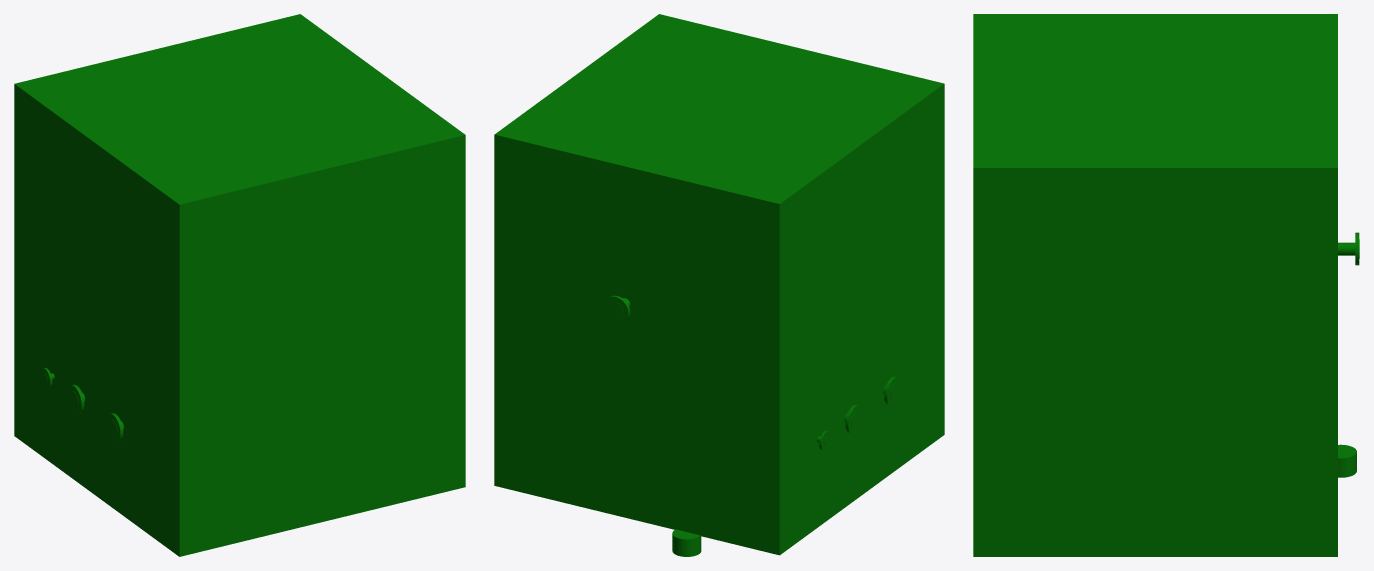
File: Image-1711348148121-2280942088352_53-CZ50.fbx
3 renders of one model, left to right at view 1: azimuth 30°, elevation 25°; view 2: azimuth 150°, elevation 25°; view 3: azimuth 270°, elevation 25°, orthographic. The views are drawn at different scales.
Visible parts, largest first — view 1: BOX 1 of EQUIPMENT /53-CZ50; view 2: BOX 1 of EQUIPMENT /53-CZ50, CYLINDER 1 of EQUIPMENT /53-CZ50, /53-CZ50/N002; view 3: BOX 1 of EQUIPMENT /53-CZ50, CYLINDER 1 of EQUIPMENT /53-CZ50.
Boxes of the visible parts, bbox=[...] form: BOX 1 of EQUIPMENT /53-CZ50: bbox=[14, 14, 465, 556]; BOX 1 of EQUIPMENT /53-CZ50: bbox=[494, 14, 944, 555]; CYLINDER 1 of EQUIPMENT /53-CZ50: bbox=[672, 529, 701, 556]; /53-CZ50/N002: bbox=[603, 295, 630, 323]; BOX 1 of EQUIPMENT /53-CZ50: bbox=[973, 14, 1337, 556]; CYLINDER 1 of EQUIPMENT /53-CZ50: bbox=[1338, 444, 1356, 477].
Size of the model in its own units: 1.75 by 1.8 by 2.1.
